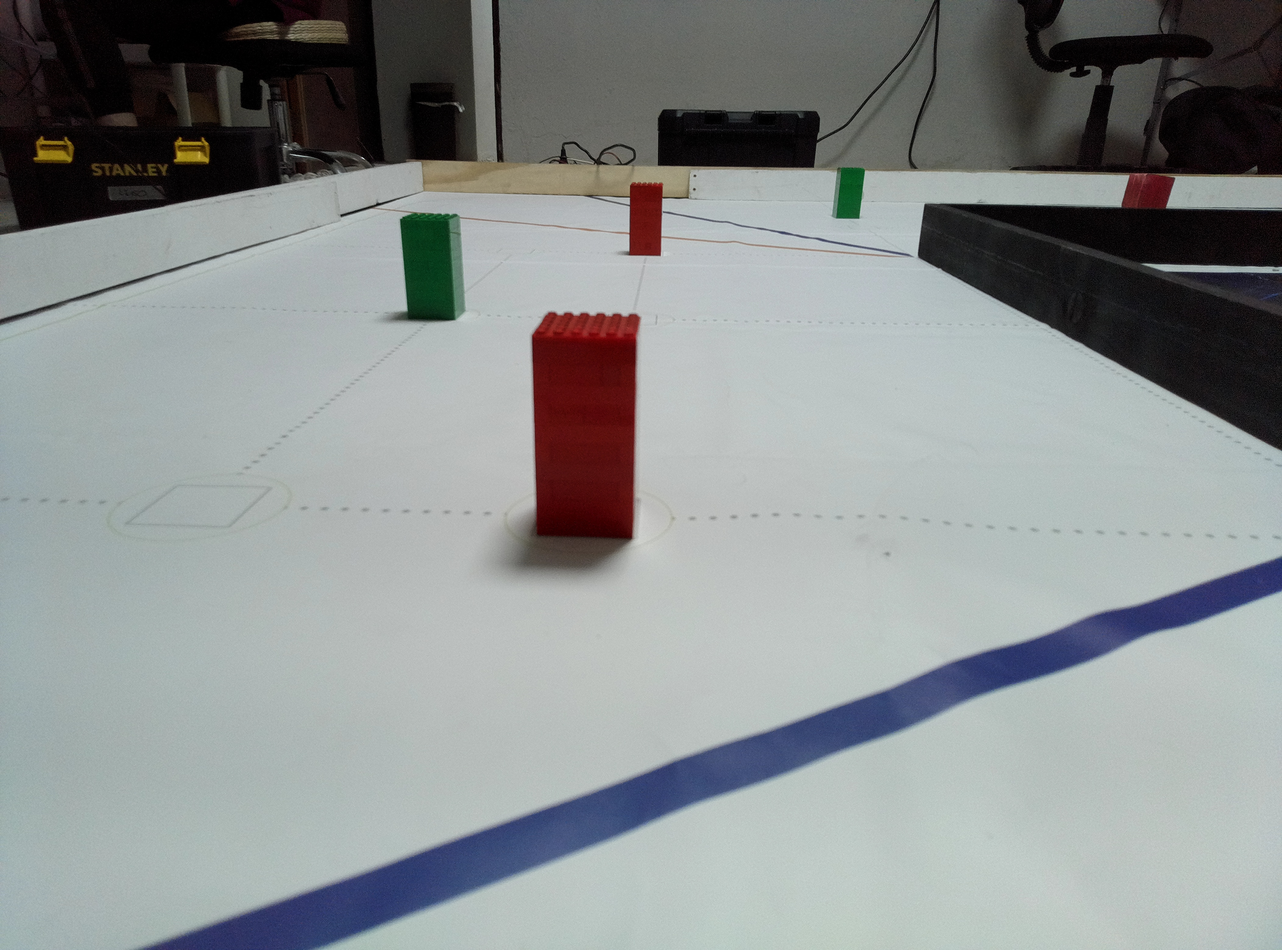greenbox: (399, 212, 467, 321), (831, 166, 867, 220)
redbox: (530, 310, 641, 542), (629, 182, 663, 257), (1120, 174, 1176, 209)
